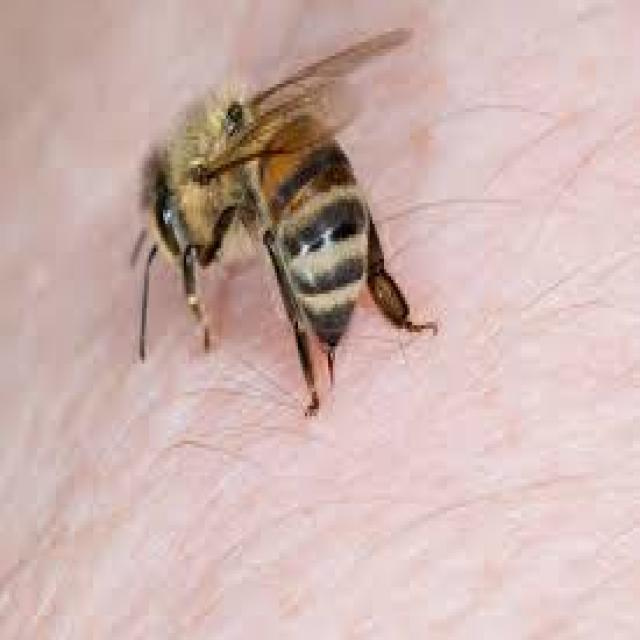Bees: (128, 29, 438, 415)
